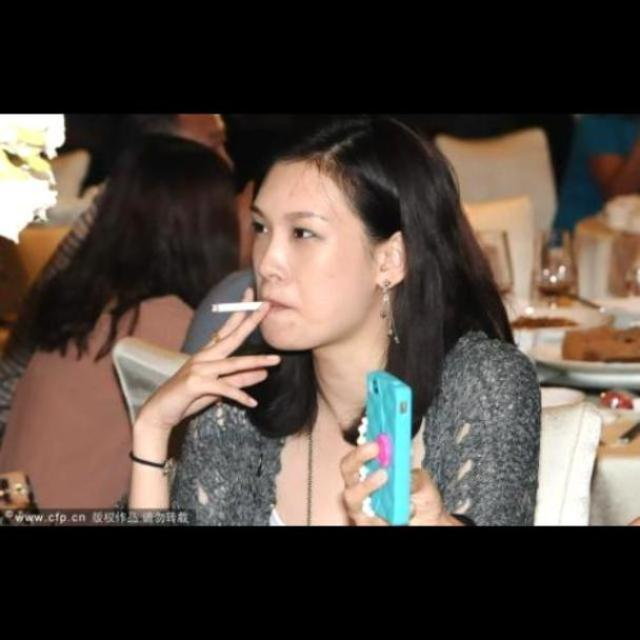rokok: (206, 292, 294, 320)
